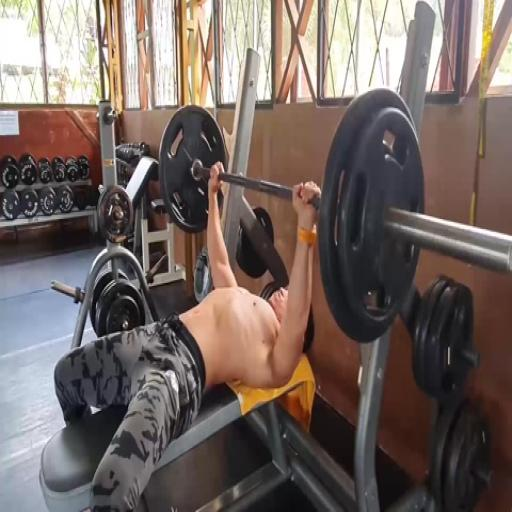exercise: (40, 159, 324, 511)
